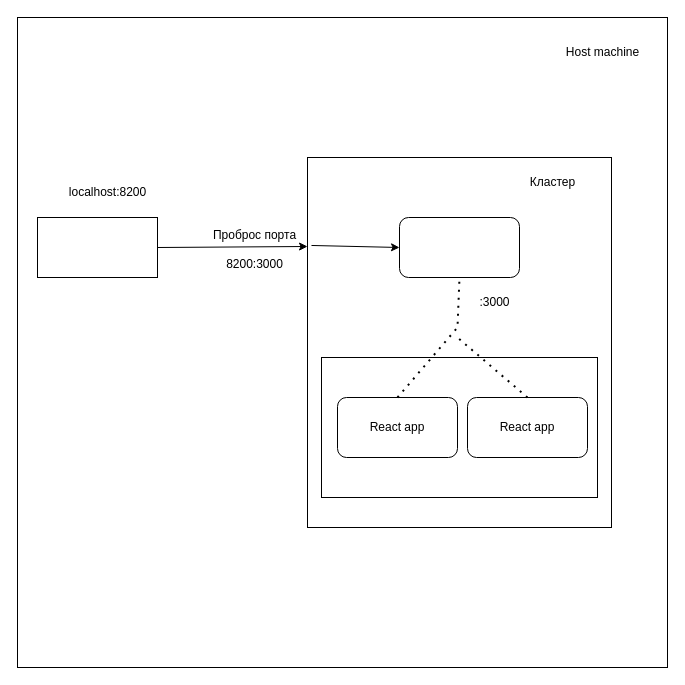
Image size: 685x685. Some labels were removed from this diagram. The shapes that lost their labels are listed below. From the top down, each one's centre as x and y in pixels, then its label:
At point 97,247: "Браузер".
At point 459,247: "lab2 service".
